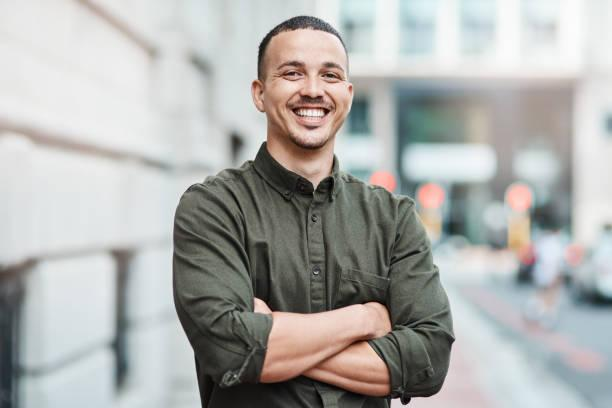no_goggle: (262, 62, 357, 94)
no_helmet: (240, 6, 365, 71)
no_vest: (159, 132, 473, 408)
